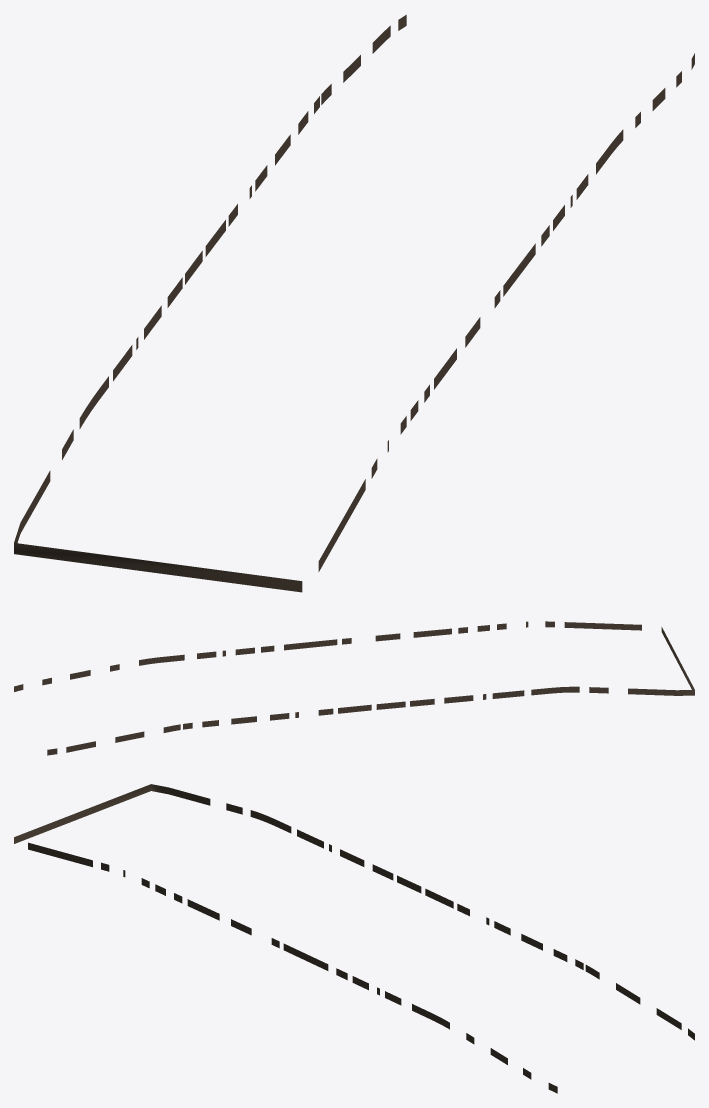
3 renders of one model, top to bottom at view 1: azimuth 30°, elevation 25°; view 2: azimuth 150°, elevation 25°; view 3: azimuth 270°, elevation 25°, orthographic. The views are drawn at different scales.
Parts seen in each view (by area): view 1: prototype; view 2: prototype; view 3: prototype.
Boxes of the visible parts, x1,y1,x2,y2 form: prototype: (14,14,694,592); prototype: (14,621,694,755); prototype: (14,784,694,1093).
Size of the model in its own units: 29.93 by 1.24 by 28.35.
